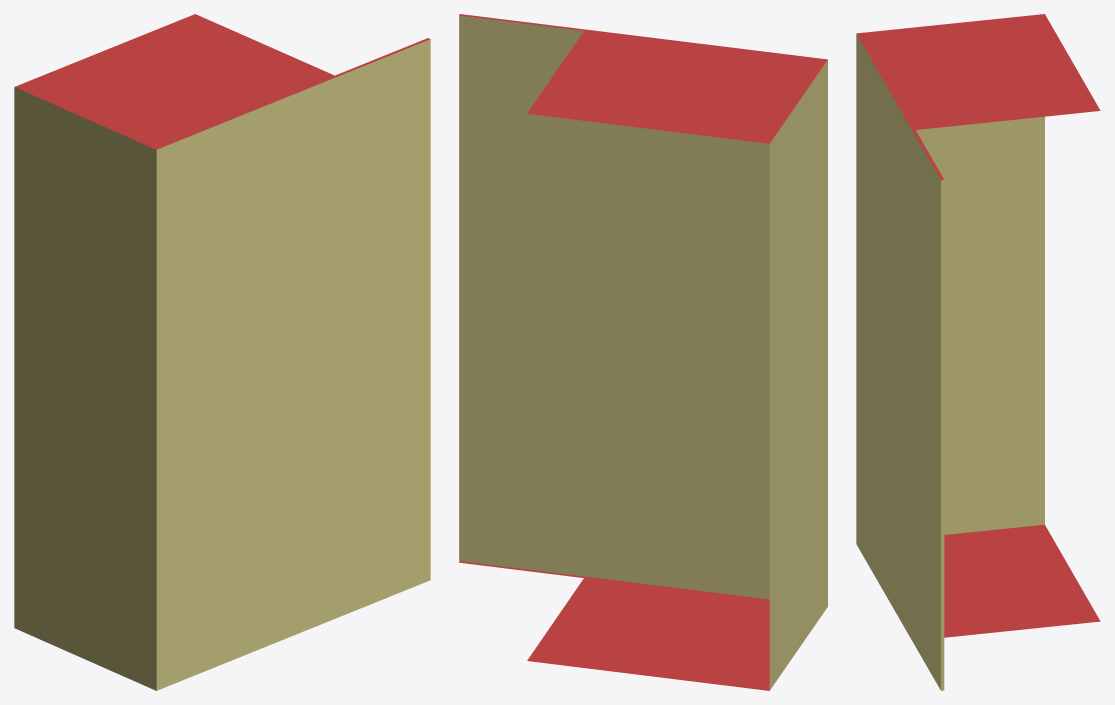
3 renders of one model, left to right at view 1: azimuth 30°, elevation 25°; view 2: azimuth 150°, elevation 25°; view 3: azimuth 270°, elevation 25°, orthographic. The views are drawn at different scales.
Bounding box in the file's own units: 8.1 × 5.03 × 11.6.
